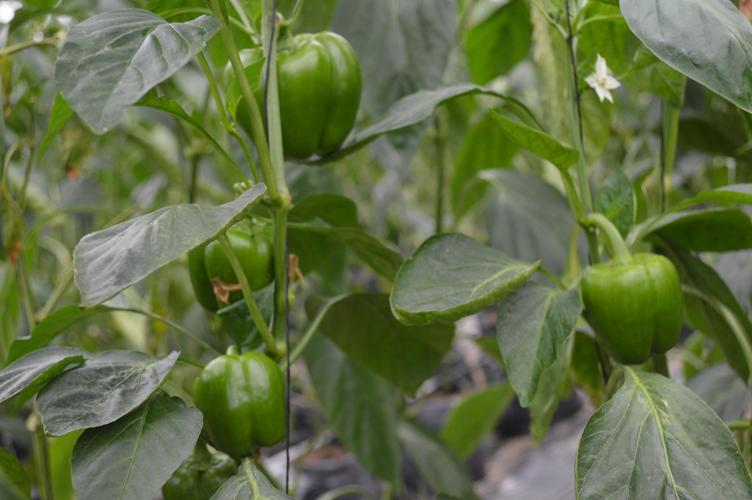BellPepper: (222, 35, 361, 160), (573, 251, 684, 366), (191, 356, 287, 455), (176, 217, 275, 311)
